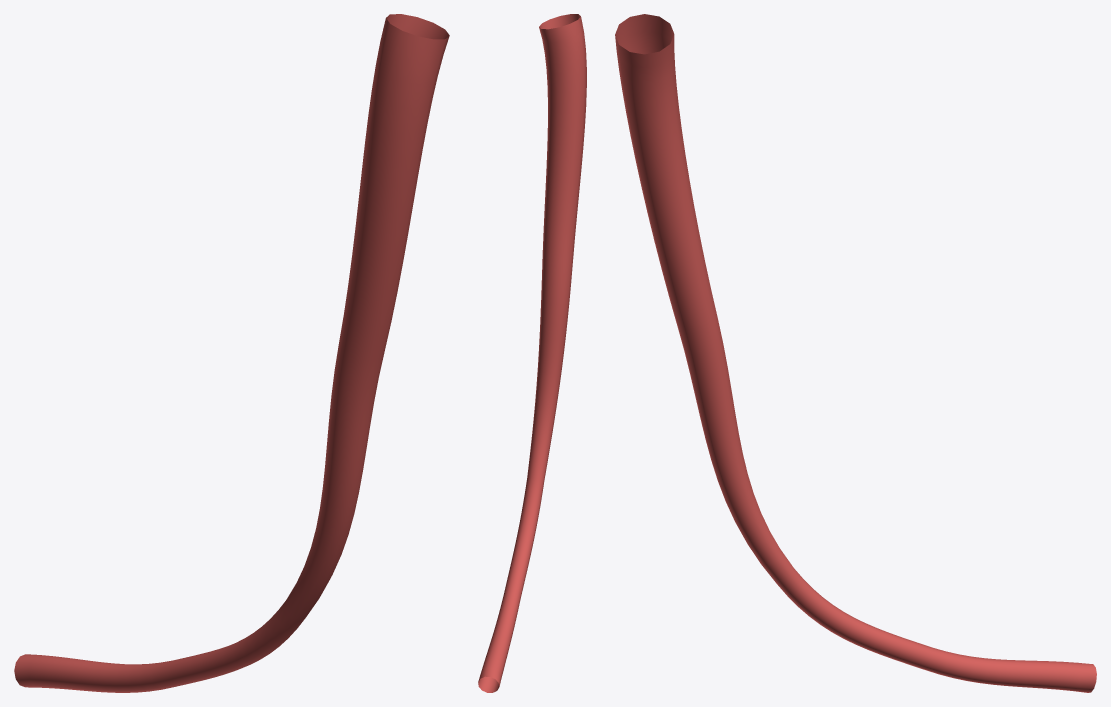
3 views of the same model, side by side, from view 1: azimuth 30°, elevation 25°; view 2: azimuth 150°, elevation 25°; view 3: azimuth 270°, elevation 25° (orthographic). The views are drawn at different scales.
Parts seen in each view (by area): view 1: 左侧眶下动脉; view 2: 左侧眶下动脉; view 3: 左侧眶下动脉.
Part boxes in pixels (bbox=[...]): 左侧眶下动脉: bbox=[14, 14, 449, 692]; 左侧眶下动脉: bbox=[478, 14, 586, 692]; 左侧眶下动脉: bbox=[615, 14, 1096, 692].
Bounding box in the file's own units: 0.00934 × 0.0399 × 0.024.
